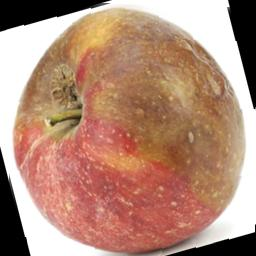Apple Rotten: (7, 0, 256, 256)
